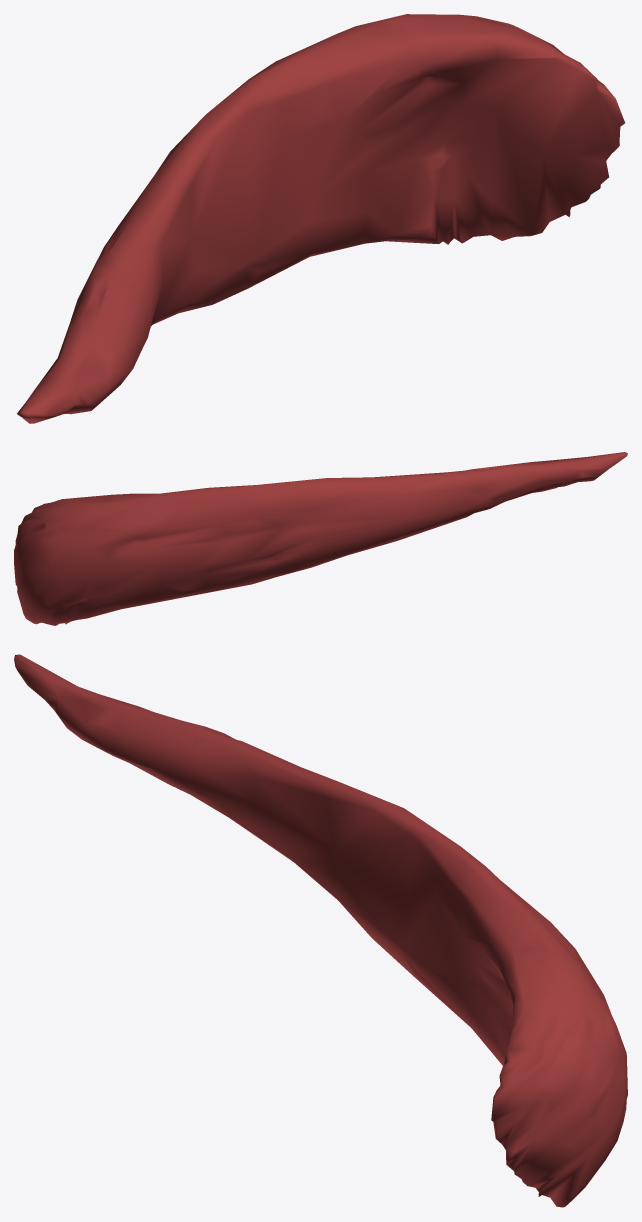
File: inferior-gemellus-muscle-r.glb
3 views of the same model, one above another, from view 1: azimuth 30°, elevation 25°; view 2: azimuth 150°, elevation 25°; view 3: azimuth 270°, elevation 25° (orthographic). The views are drawn at different scales.
Visible parts, largest first — view 1: Inferior gemellus muscle.r; view 2: Inferior gemellus muscle.r; view 3: Inferior gemellus muscle.r.
Part boxes in pixels (left/top/right/bottom): Inferior gemellus muscle.r: left=17, top=14, right=624, bottom=423; Inferior gemellus muscle.r: left=14, top=452, right=627, bottom=625; Inferior gemellus muscle.r: left=14, top=654, right=627, bottom=1207.
Size of the model in its own units: 0.0728 by 0.0232 by 0.0543.
